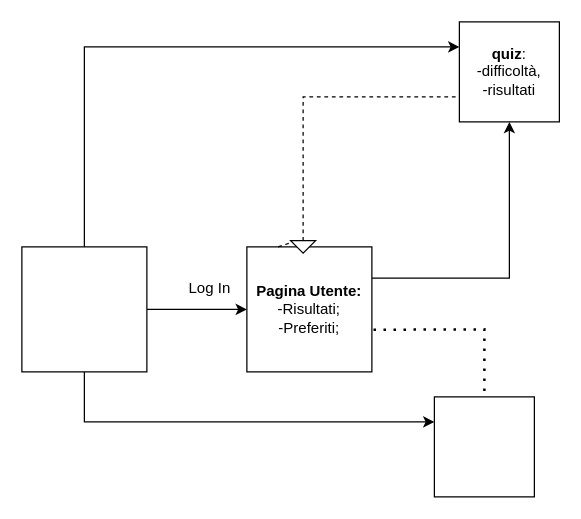
Image size: 581x519. Some labels were removed from this diagram. The centre of each missing label's shape, as x and y in pixels:
Ricerca: lista: pixel 483 446
Utente: -Username, -Email, -Pass.: pixel 84 309
